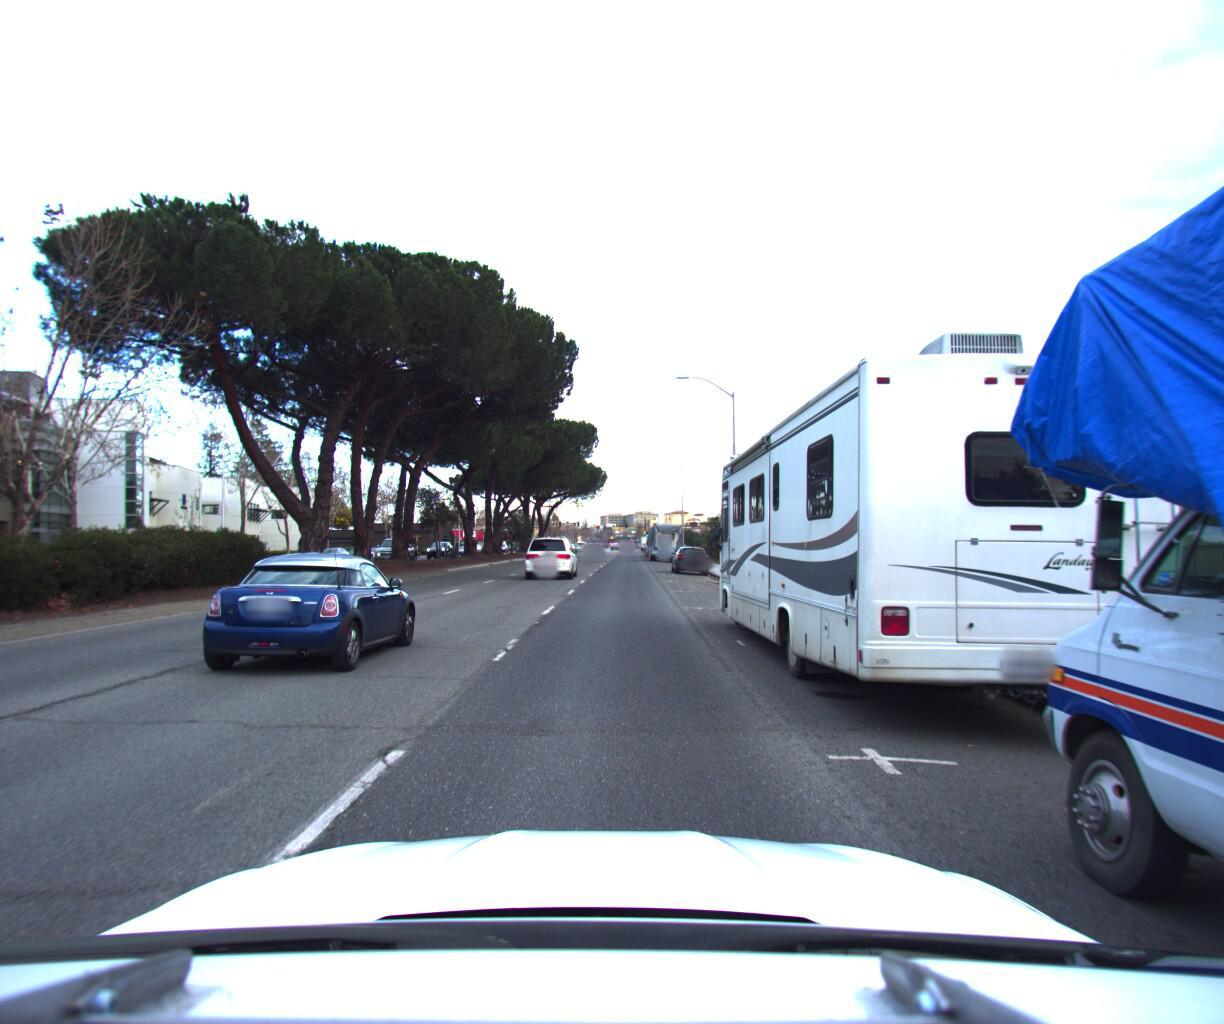bus: (703, 277, 1218, 769)
car: (193, 543, 429, 675), (519, 529, 580, 573), (371, 534, 422, 567), (667, 536, 709, 568), (314, 539, 352, 557), (582, 530, 605, 548)
truck: (645, 513, 682, 554)
